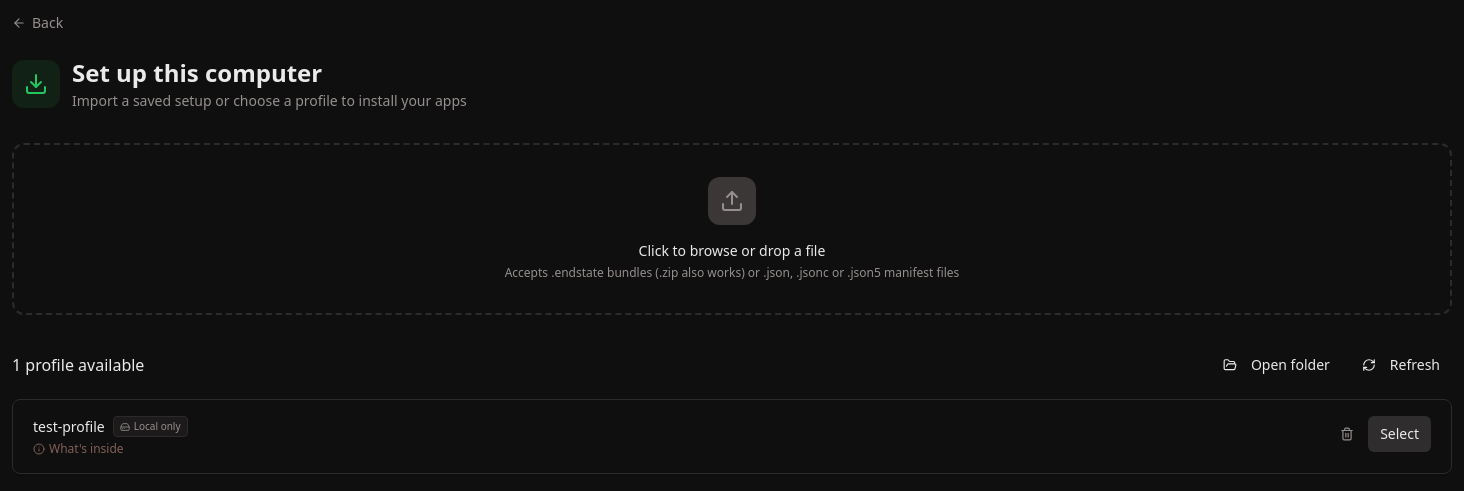
Test: SetupFlow — Restore module selection › does not render ConfigModuleSelector when no modules available
The image size is (1464, 491).
Click the text "test-profile": (69, 426) [33,416,105,436]
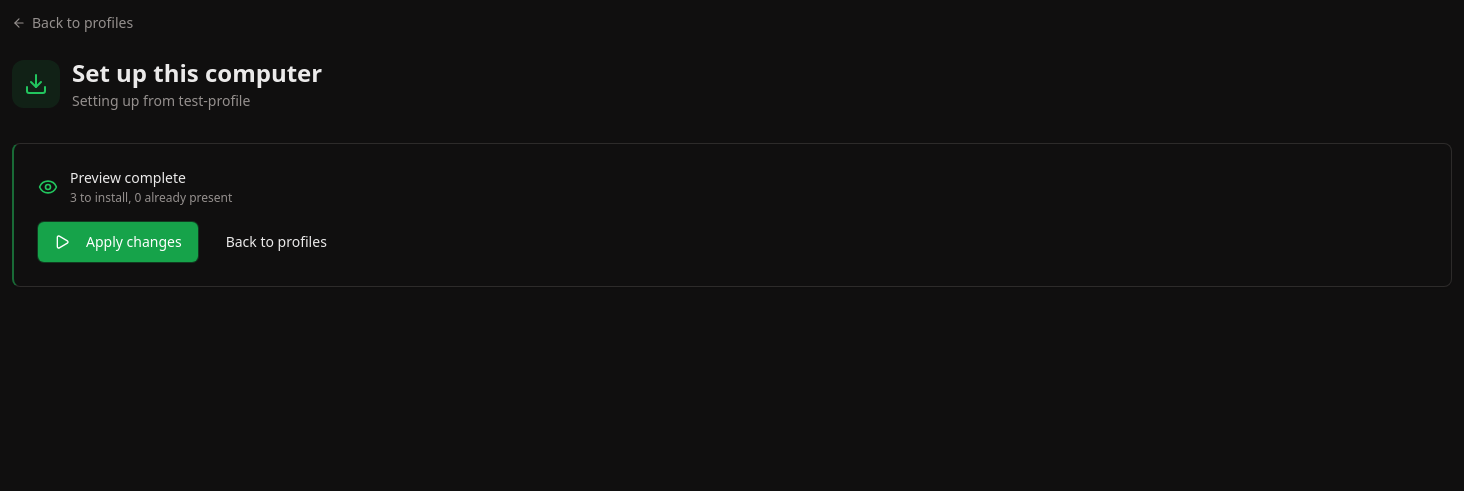
Now the button with test id "setup-flow-apply" is shown, box [38,222,198,262]
